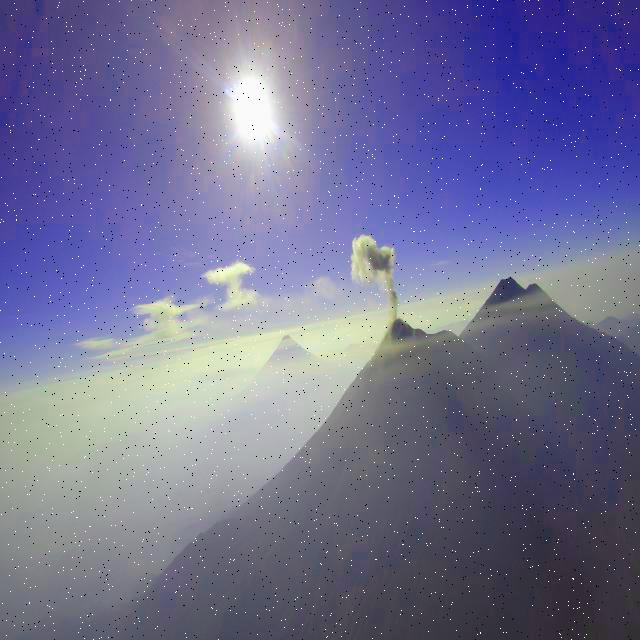Plume: (344, 222, 410, 334)
Summit: (361, 317, 478, 364)
